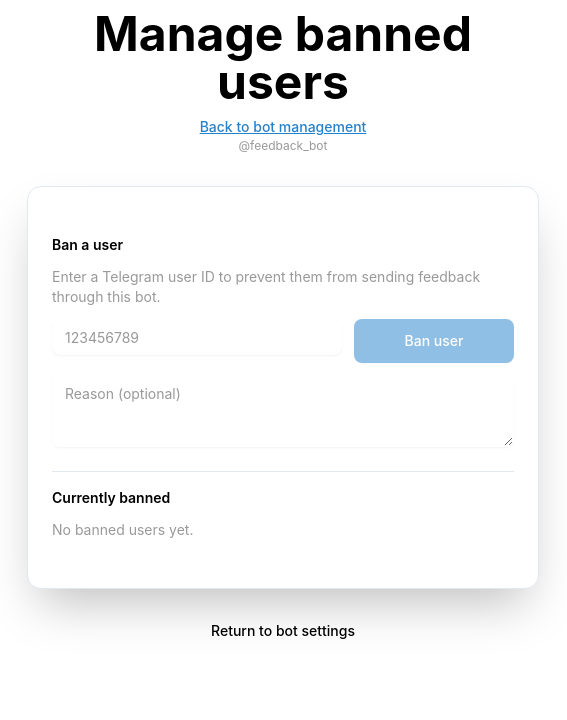
Scenario: bot banned users page › bans a user and refreshes the list
The image size is (567, 720).
Type "222222" into the field named "Telegram user ID" at (197,337), box [52,319,342,355]
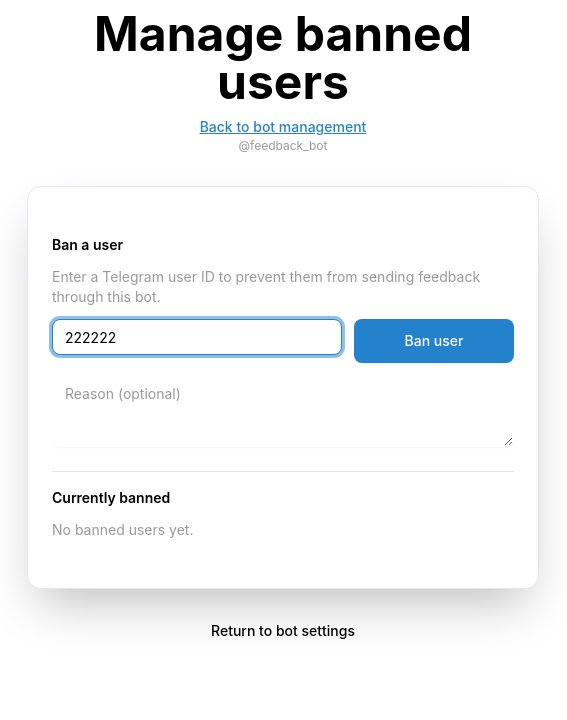
Type "abuse" into the text box named "Ban reason" at (283,411), box [52,375,514,447]
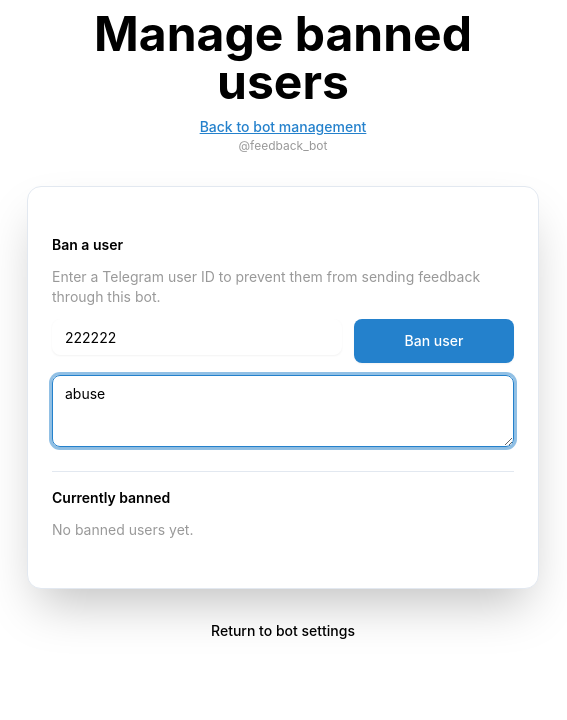
Click the button "Ban user" at (434,341), box [354,319,514,363]
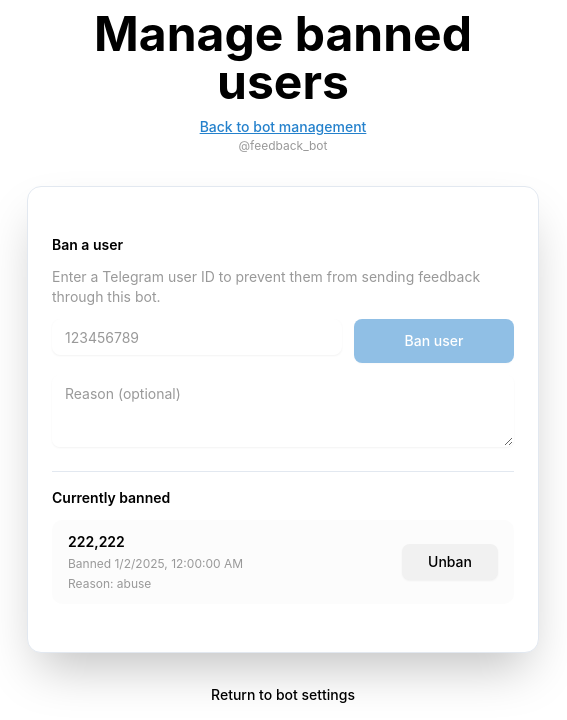
Expected: the text "222,222" is shown, [68,533,125,550]
Expected: the text "Reason: abuse" is shown, [68,576,151,591]
